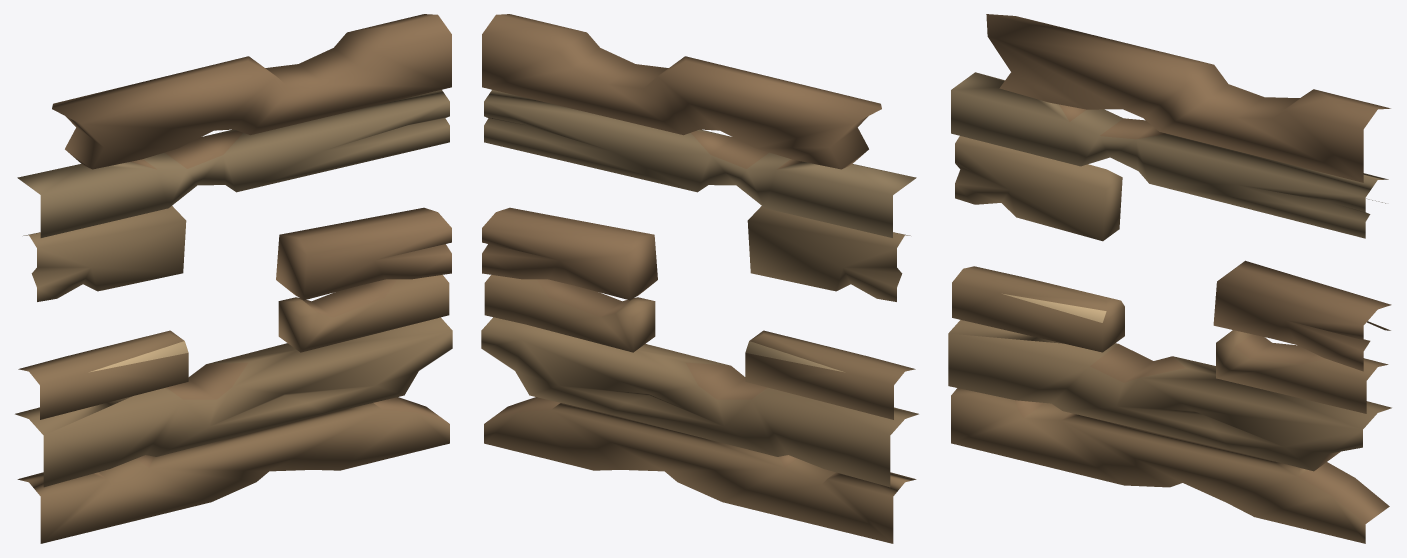
File: rpgpp_av_wall_01_3x3_window_03b.gltf
3 views of the same model, side by side, from view 1: azimuth 30°, elevation 25°; view 2: azimuth 150°, elevation 25°; view 3: azimuth 330°, elevation 25° (orthographic).
Parts seen in each view (by area): view 1: rpgpp_av_wall_01_3x3_window_03b; view 2: rpgpp_av_wall_01_3x3_window_03b; view 3: rpgpp_av_wall_01_3x3_window_03b.
Part boxes in pixels (box(x1,y1,x2,y2)): rpgpp_av_wall_01_3x3_window_03b: box(15, 14, 452, 543); rpgpp_av_wall_01_3x3_window_03b: box(481, 14, 918, 543); rpgpp_av_wall_01_3x3_window_03b: box(948, 14, 1391, 543).
Size of the model in its own units: 0.03 by 0.03 by 0.00374.
1 material, 1 textured.
